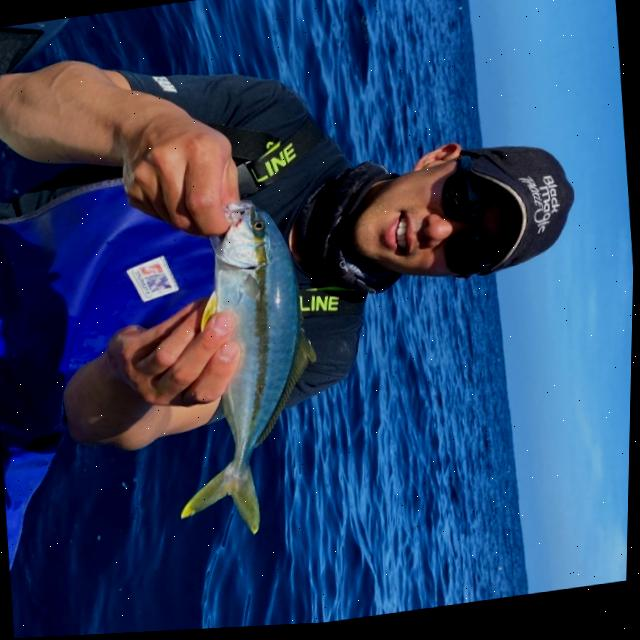Kingfish: (151, 191, 338, 550)
